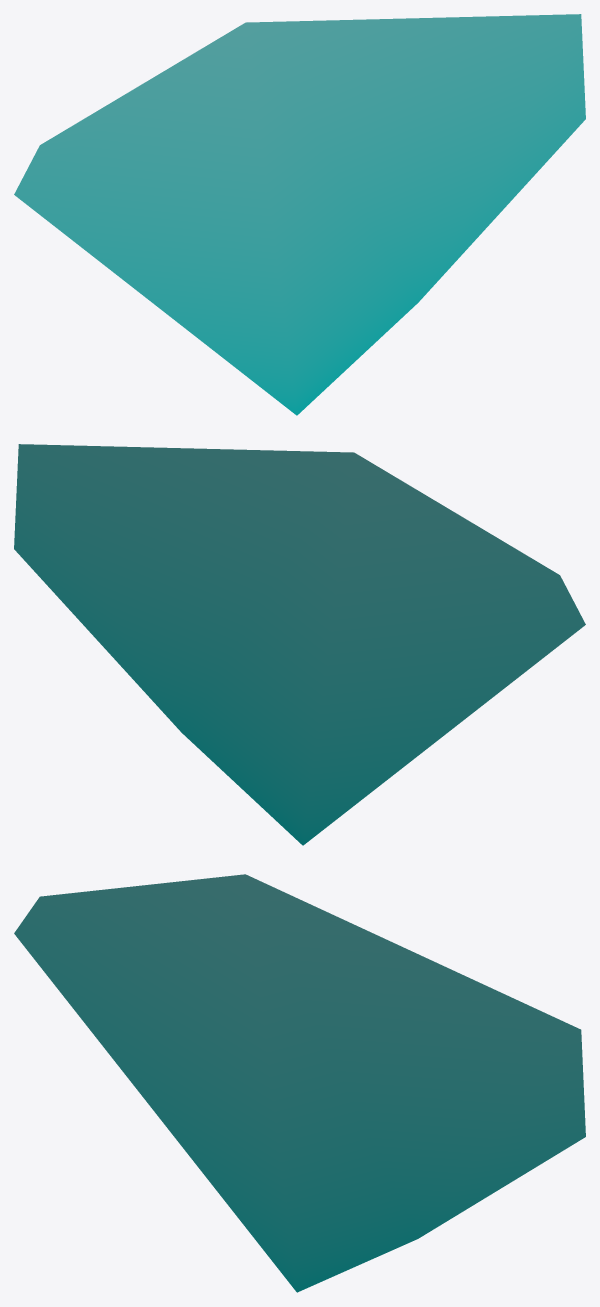
File: sfcnq_VarB_LOD2.fbx
3 views of the same model, one above another, from view 1: azimuth 30°, elevation 25°; view 2: azimuth 150°, elevation 25°; view 3: azimuth 330°, elevation 25° (orthographic).
Parts seen in each view (by area): view 1: _4de6_VarB_LOD3; view 2: _4de6_VarB_LOD3; view 3: _4de6_VarB_LOD3.
Part boxes in pixels (box(x1,y1,x2,y2)): _4de6_VarB_LOD3: box(14, 14, 585, 415); _4de6_VarB_LOD3: box(14, 444, 585, 845); _4de6_VarB_LOD3: box(14, 874, 585, 1292).
Size of the model in its own units: 38.33 by 25.99 by 0.
